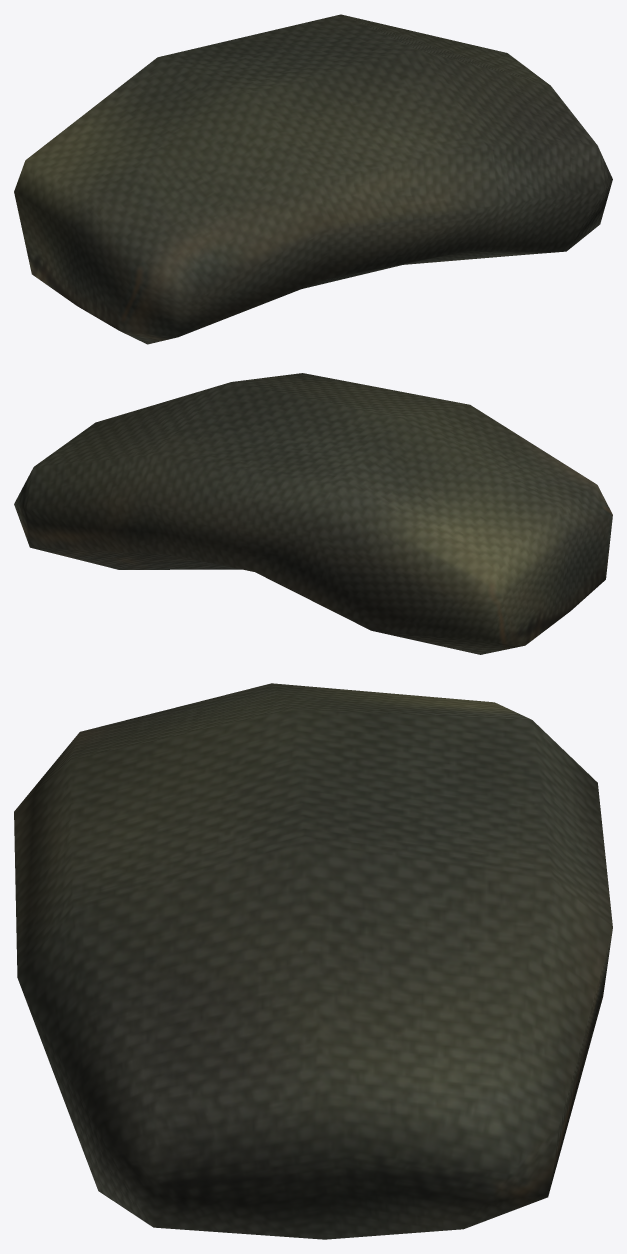
The model's file is SM_Sand_bag_2_c.FBX.
3 views of the same model, one above another, from view 1: azimuth 30°, elevation 25°; view 2: azimuth 150°, elevation 25°; view 3: azimuth 270°, elevation 25° (orthographic). The views are drawn at different scales.
Parts seen in each view (by area): view 1: Sand_bag_2_c; view 2: Sand_bag_2_c; view 3: Sand_bag_2_c.
Part boxes in pixels (x1,y1,x2,y2): Sand_bag_2_c: (14, 14, 612, 344); Sand_bag_2_c: (14, 373, 612, 654); Sand_bag_2_c: (14, 683, 612, 1239).
Size of the model in its own units: 57.36 by 36.12 by 20.73.
